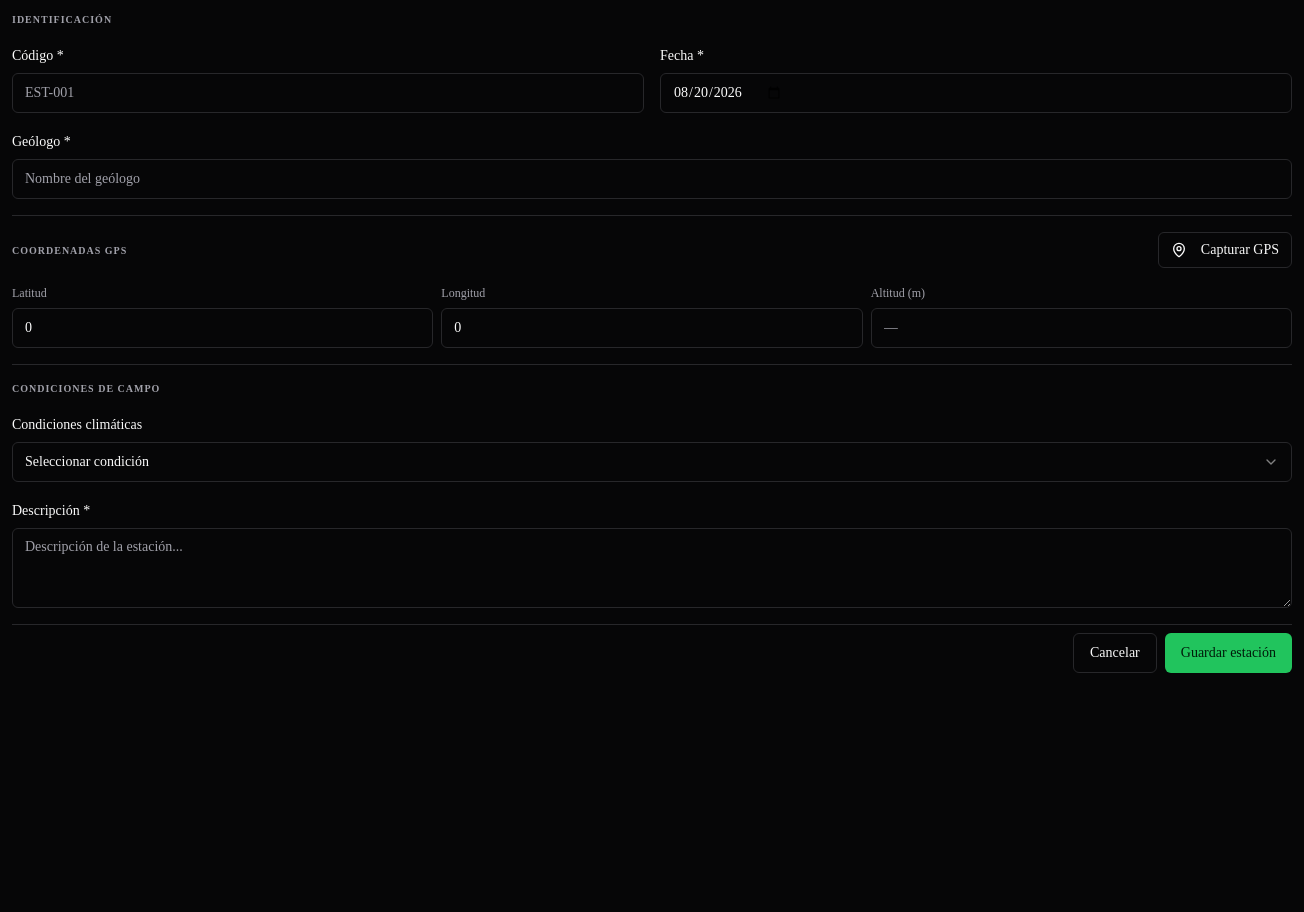
Test: StationForm › shows validation errors when submitting empty (default coords 0,0)
Click the button "Guardar estación" at (1228, 653), box [1165,633,1292,673]
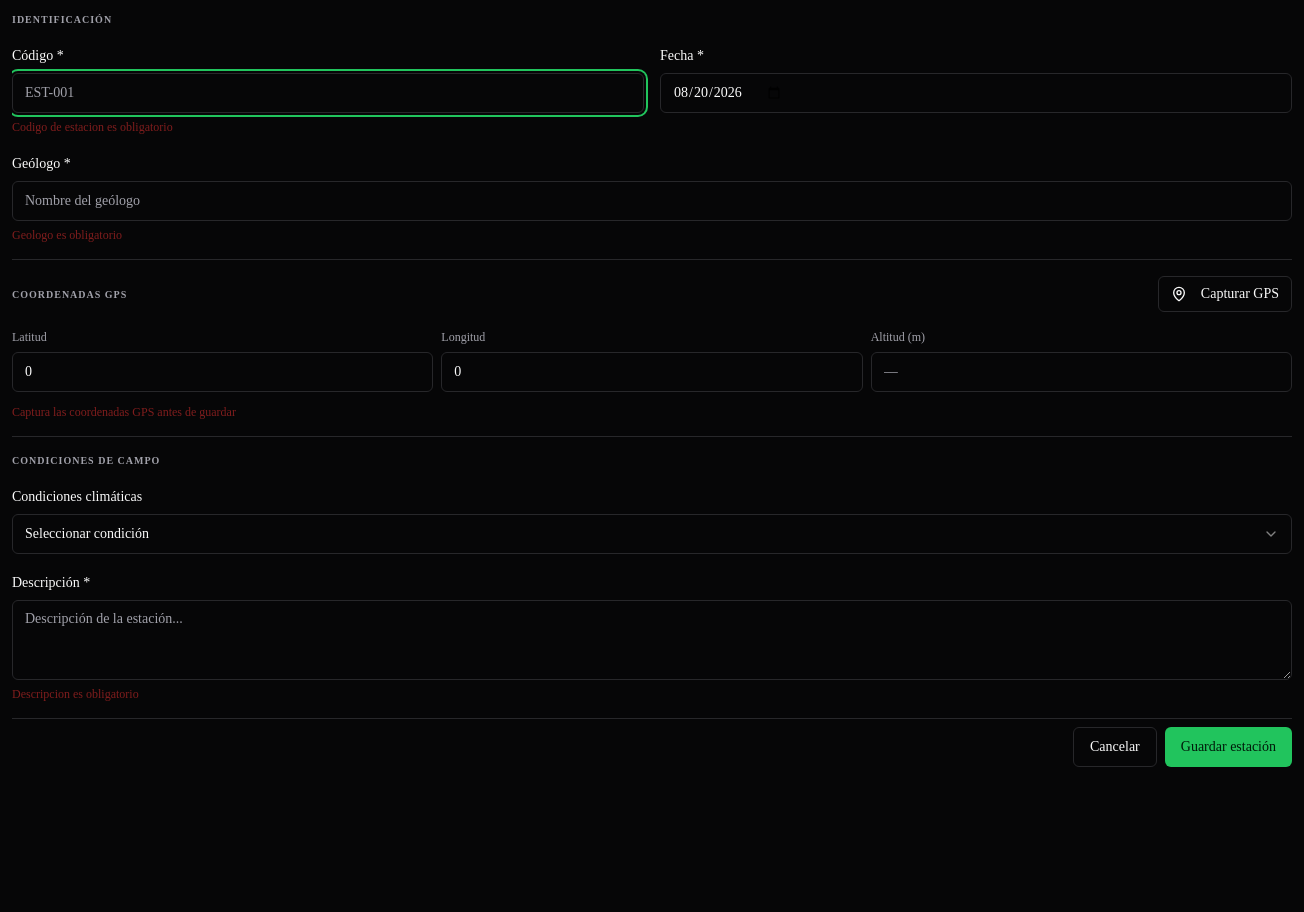
Expected: the text "Codigo de estacion es obligatorio" is shown, [12,120,173,134]
Expected: the text "Geologo es obligatorio" is shown, [12,228,122,242]
Expected: the text "Descripcion es obligatorio" is shown, [12,687,139,701]
